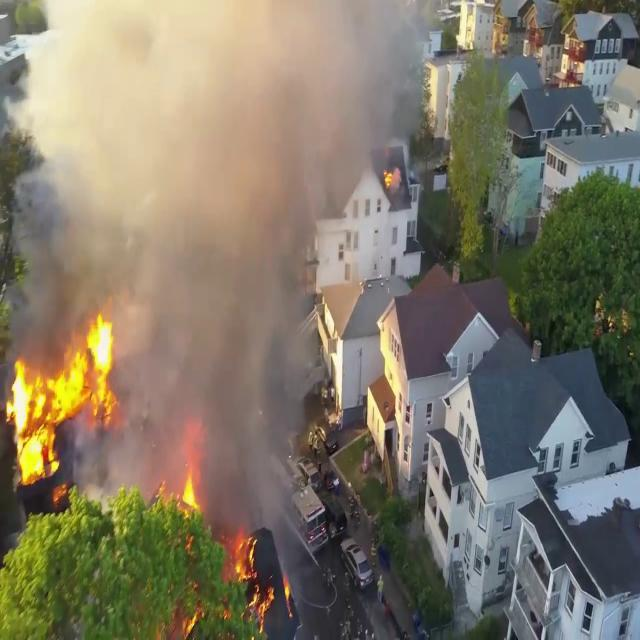Fire: (1, 311, 126, 482), (230, 530, 282, 632)
Smoke: (1, 0, 392, 479)
